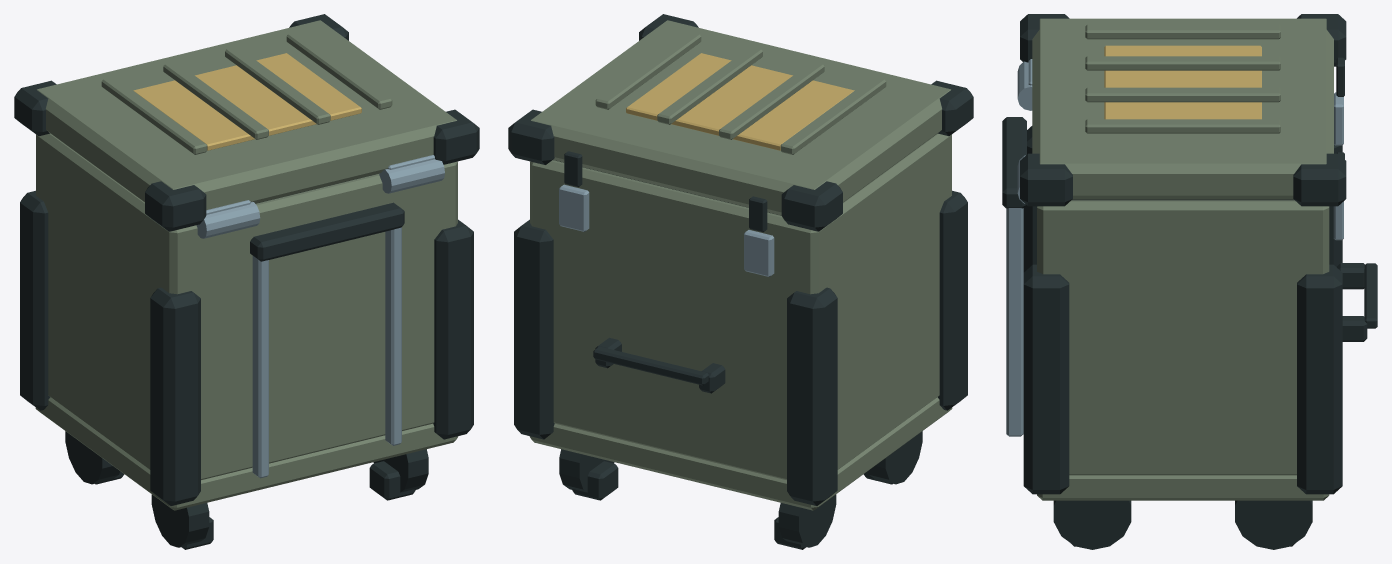
Rendered from rolling_logistics_case.glb.
The picture shows the model from 3 angles, left to right: view 1: azimuth 30°, elevation 25°; view 2: azimuth 150°, elevation 25°; view 3: azimuth 270°, elevation 25°; orthographic projection. The views are drawn at different scales.
Visible parts, largest first — view 1: body_back_wall, moving_lid, body_side_wall (×2), corner_pad (×3), moving_lid_identity, body_floor, moving_rib (×4), body_tow_rail (×2), moving_corner_cap (×3), caster_wheel (×3), body_tow_grip, body_hinge (×2) (+1 smaller); view 2: body_front_wall, moving_lid, body_side_wall (×2), corner_pad (×3), moving_lid_identity, body_floor, moving_rib (×4), moving_corner_cap (×3), caster_wheel (×3), latch_base (×2), front_carry_grip, moving_latch_hook (×2) (+1 smaller); view 3: body_side_wall, moving_lid, corner_pad (×4), moving_rib (×4), moving_lid_identity, caster_wheel (×2), moving_corner_cap (×4), body_floor, body_tow_rail, body_tow_grip, front_carry_mount (×2), front_carry_grip (+4 smaller).
Boxes of the visible parts, x1,y1,x2,y2 form: body_back_wall: (160, 162, 455, 479); moving_lid: (37, 20, 456, 209); body_side_wall (×2): (36, 133, 457, 469); corner_pad (×3): (20, 190, 473, 505); moving_lid_identity: (133, 53, 361, 150); body_floor: (35, 397, 458, 510); moving_rib (×4): (101, 31, 392, 154); body_tow_rail (×2): (252, 227, 401, 478); moving_corner_cap (×3): (14, 80, 479, 231); caster_wheel (×3): (65, 431, 428, 547); body_tow_grip: (250, 202, 404, 261); body_hinge (×2): (196, 159, 444, 238); body_front_wall: (532, 160, 827, 479); moving_lid: (531, 20, 950, 215); body_side_wall (×2): (530, 133, 951, 469); corner_pad (×3): (514, 190, 967, 505); moving_lid_identity: (626, 53, 854, 150); body_floor: (529, 397, 952, 510); moving_rib (×4): (595, 31, 886, 154); moving_corner_cap (×3): (508, 80, 973, 231); caster_wheel (×3): (559, 431, 922, 547); latch_base (×2): (559, 184, 774, 276); front_carry_grip: (593, 346, 708, 385); moving_latch_hook (×2): (564, 151, 767, 232); body_side_wall: (1037, 200, 1329, 475); moving_lid: (1032, 18, 1333, 199); corner_pad (×4): (1023, 126, 1342, 494); moving_rib (×4): (1085, 24, 1280, 133); moving_lid_identity: (1104, 45, 1261, 119); caster_wheel (×2): (1053, 500, 1312, 549); moving_corner_cap (×4): (1020, 14, 1346, 206); body_floor: (1037, 475, 1329, 500); body_tow_rail: (1006, 208, 1023, 436); body_tow_grip: (1002, 117, 1026, 208); front_carry_mount (×2): (1337, 263, 1367, 341); front_carry_grip: (1364, 263, 1377, 328).
Bounding box in the file's own units: 1.01 × 1.2 × 0.989.
